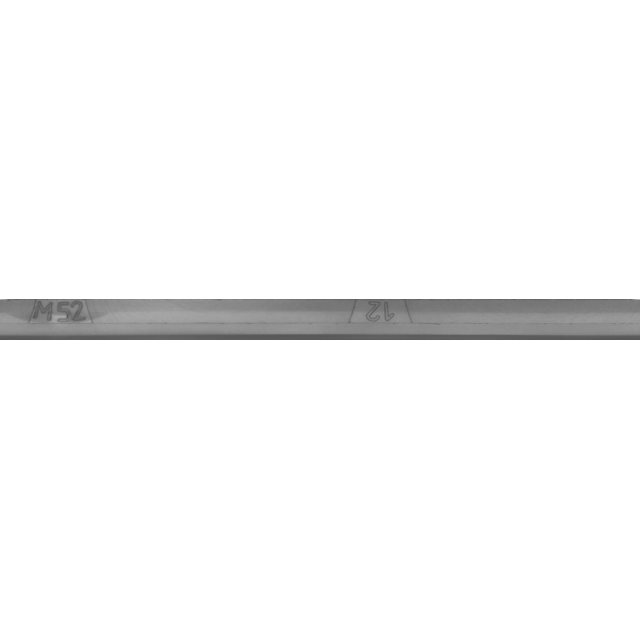mohao: (0, 270, 160, 370)
xuehao: (282, 270, 482, 370)
